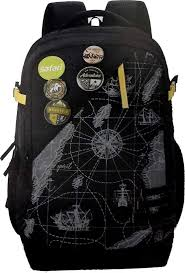backpack: (0, 0, 184, 270)
